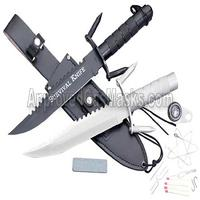knife: (6, 7, 160, 141), (24, 67, 182, 175)
